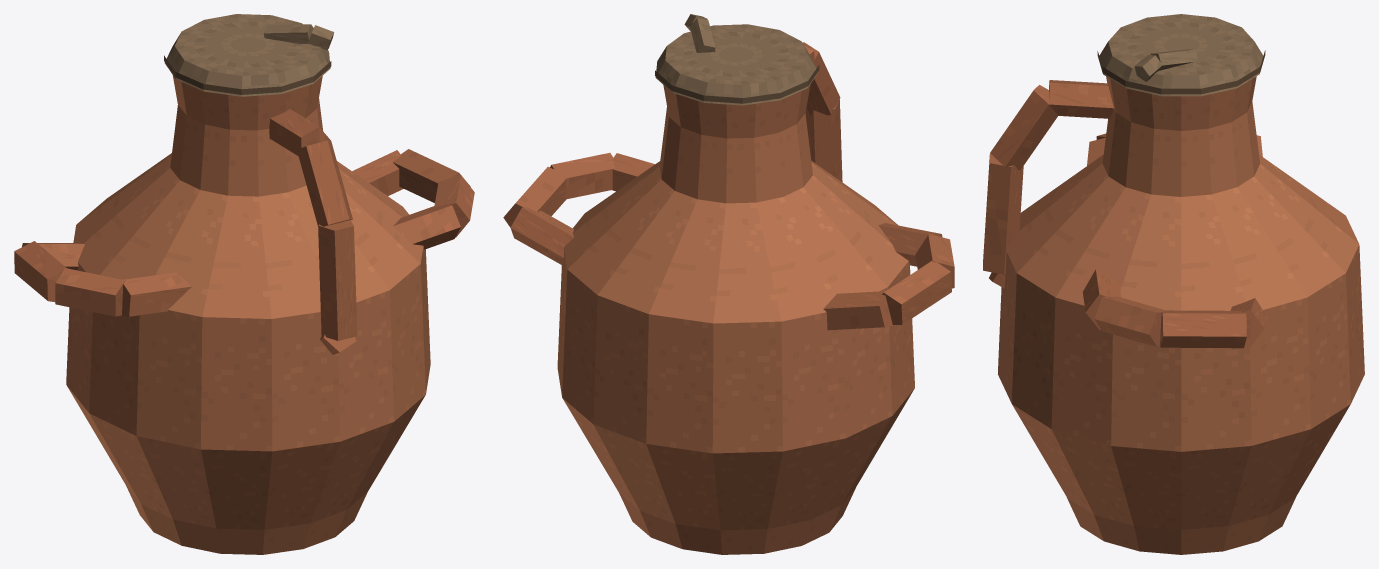
The model's file is clay_hydria.glb.
3 views of the same model, side by side, from view 1: azimuth 30°, elevation 25°; view 2: azimuth 150°, elevation 25°; view 3: azimuth 270°, elevation 25° (orthographic).
Parts seen in each view (by area): view 1: block_thrown clay shoulders, block_tied waterproof hide cover, block_horizontal lifting handle 3 (×2), block_vertical pouring handle 2, block_horizontal lifting handle 2 (×2), block_horizontal lifting handle 1 (×2), block_vertical pouring handle 1, block_horizontal lifting handle 0 (×2), block_vertical pouring handle 0, block_hide binding cord, block_folded lid tab 0; view 2: block_thrown clay shoulders, block_tied waterproof hide cover, block_horizontal lifting handle 0 (×2), block_horizontal lifting handle 1 (×2), block_horizontal lifting handle 2 (×2), block_horizontal lifting handle 3 (×2), block_vertical pouring handle 2, block_vertical pouring handle 1, block_hide binding cord, block_folded lid tab 0; view 3: block_thrown clay shoulders, block_tied waterproof hide cover, block_vertical pouring handle 2, block_horizontal lifting handle 1, block_vertical pouring handle 1, block_horizontal lifting handle 2, block_vertical pouring handle 0, block_hide binding cord, block_horizontal lifting handle 3, block_horizontal lifting handle 0, block_folded lid tab 0, block_folded lid tab 1.
Part boxes in pixels (x1,y1,x2,y2): block_thrown clay shoulders: (66,75,430,554); block_tied waterproof hide cover: (164,14,330,96); block_horizontal lifting handle 3 (×2): (121,204,460,316); block_vertical pouring handle 2: (318,220,357,340); block_horizontal lifting handle 2 (×2): (55,175,474,316); block_horizontal lifting handle 1 (×2): (14,149,470,301); block_vertical pouring handle 1: (297,140,352,226); block_horizontal lifting handle 0 (×2): (22,150,403,270); block_vertical pouring handle 0: (269,109,330,157); block_hide binding cord: (164,55,331,94); block_folded lid tab 0: (263,24,313,43); block_thrown clay shoulders: (557,84,914,554); block_tied waterproof hide cover: (655,24,818,105); block_horizontal lifting handle 0 (×2): (510,207,895,330); block_horizontal lifting handle 1 (×2): (503,167,951,325); block_horizontal lifting handle 2 (×2): (550,152,954,288); block_horizontal lifting handle 3 (×2): (612,153,942,266); block_vertical pouring handle 2: (805,99,842,182); block_vertical pouring handle 1: (803,42,840,115); block_hide binding cord: (655,65,819,103); block_folded lid tab 0: (690,18,715,52); block_thrown clay shoulders: (998,76,1364,554); block_tied waterproof hide cover: (1099,14,1263,96); block_vertical pouring handle 2: (983,153,1023,274); block_horizontal lifting handle 1: (1160,310,1246,348); block_vertical pouring handle 1: (990,85,1057,170); block_horizontal lifting handle 2: (1094,296,1165,346); block_vertical pouring handle 0: (1049,80,1113,118); block_hide binding cord: (1097,50,1265,94); block_horizontal lifting handle 3: (1082,269,1121,329); block_horizontal lifting handle 0: (1230,298,1268,346); block_folded lid tab 0: (1150,49,1197,70); block_folded lid tab 1: (1134,55,1162,81).
Size of the model in its own units: 0.3366 by 0.365 by 0.2633.
1 material, 1 textured.
